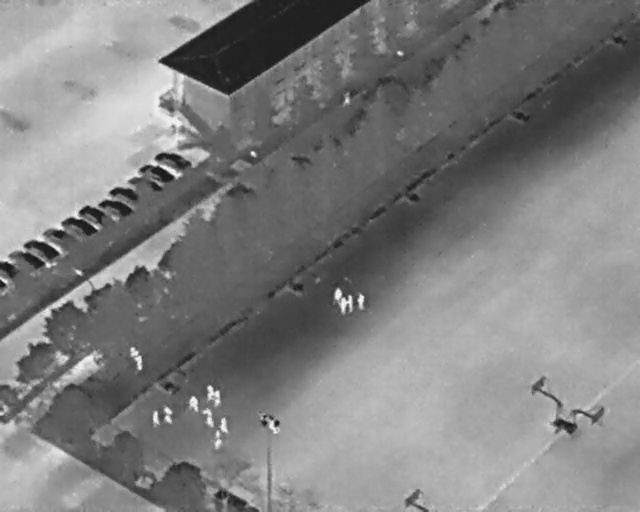Car: (19, 231, 63, 269), (58, 208, 100, 244), (151, 143, 195, 177), (38, 219, 78, 255), (135, 156, 177, 189), (5, 244, 44, 277), (76, 199, 114, 232), (95, 192, 135, 223), (125, 169, 164, 199), (106, 178, 143, 209), (0, 258, 20, 280), (0, 279, 8, 290)
Person: (200, 406, 217, 430), (213, 429, 223, 451), (188, 396, 200, 414), (162, 404, 173, 423), (150, 411, 162, 428), (204, 382, 213, 404), (356, 291, 366, 310), (212, 390, 223, 407), (338, 297, 348, 315), (342, 92, 353, 106), (220, 416, 228, 435), (347, 293, 354, 313), (334, 287, 343, 302)
